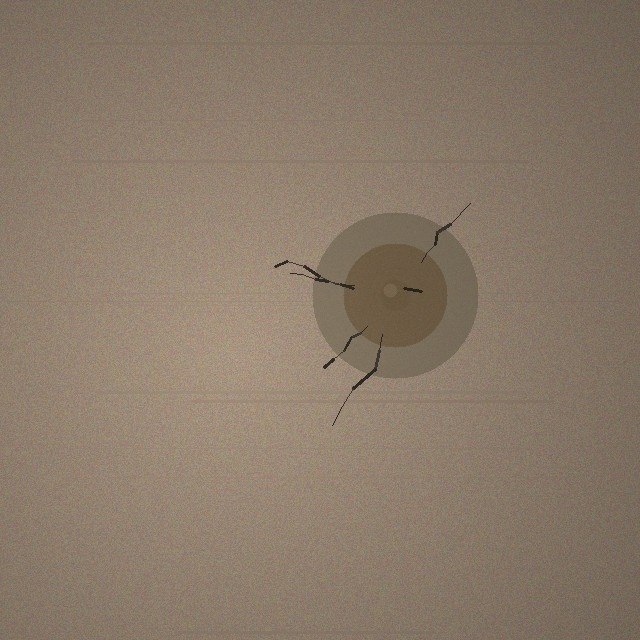crack: (312, 212, 478, 378)
